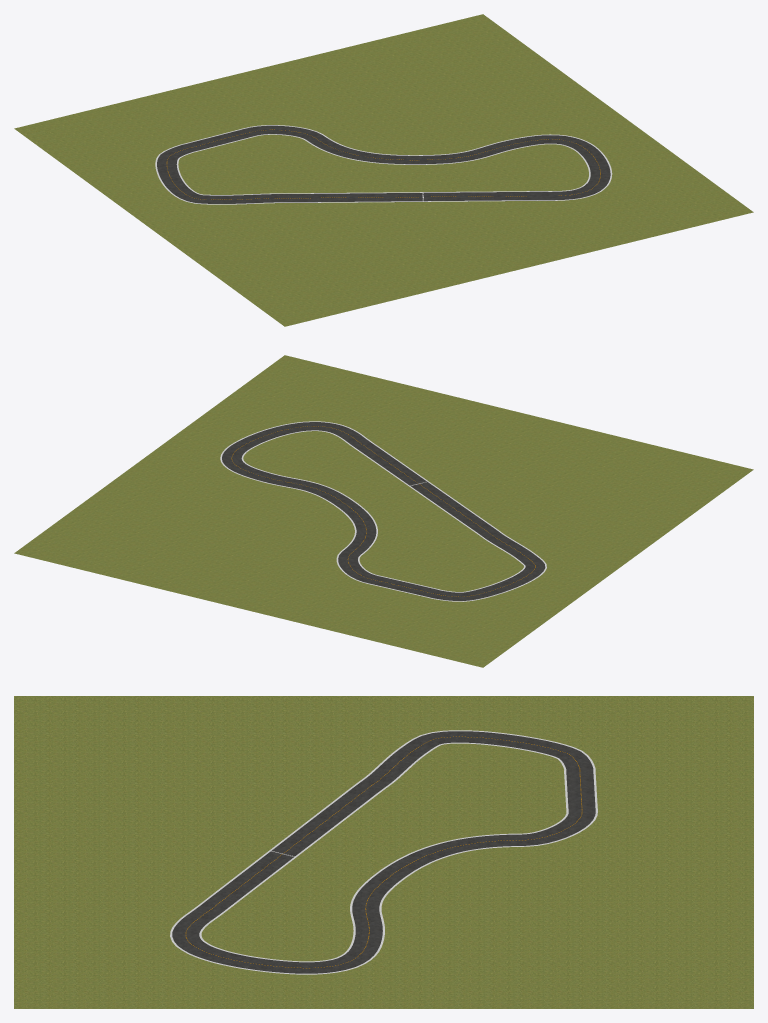
File: 2022_april_open.dae
3 renders of one model, top to bottom at view 1: azimuth 30°, elevation 25°; view 2: azimuth 150°, elevation 25°; view 3: azimuth 270°, elevation 25°, orthographic. The views are drawn at different scales.
Visible parts, largest first — view 1: field, road, ol, il; view 2: field, road, ol, il; view 3: field, road, ol, il, cl.
Part boxes in pixels (<box>): field: <box>14,14,753,326</box>; road: <box>157,125,610,203</box>; ol: <box>155,125,612,204</box>; il: <box>176,134,590,195</box>; field: <box>14,355,753,667</box>; road: <box>222,422,545,600</box>; ol: <box>220,421,546,601</box>; il: <box>241,430,525,592</box>; field: <box>14,696,753,1008</box>; road: <box>172,731,595,973</box>; ol: <box>170,730,597,974</box>; il: <box>199,742,568,962</box>; cl: <box>185,736,582,968</box>.
Size of the model in its own units: 25 by 25 by 0.0025.
Materials: 6 (6 with a texture image).
